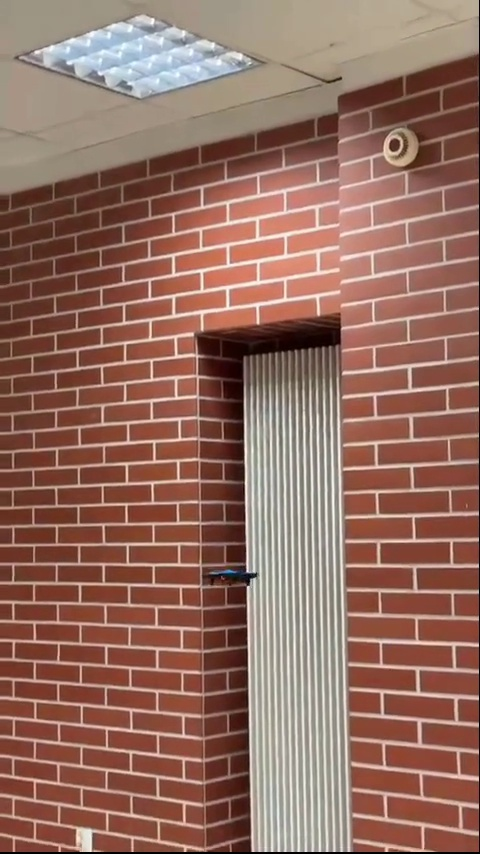drone: (204, 563, 263, 584)
